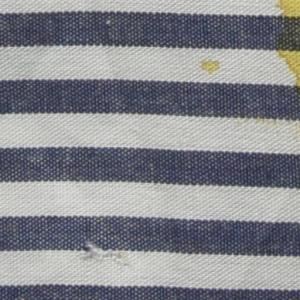Damage: (76, 236, 136, 272)
Oil Stain: (275, 1, 300, 96), (197, 57, 227, 77)
